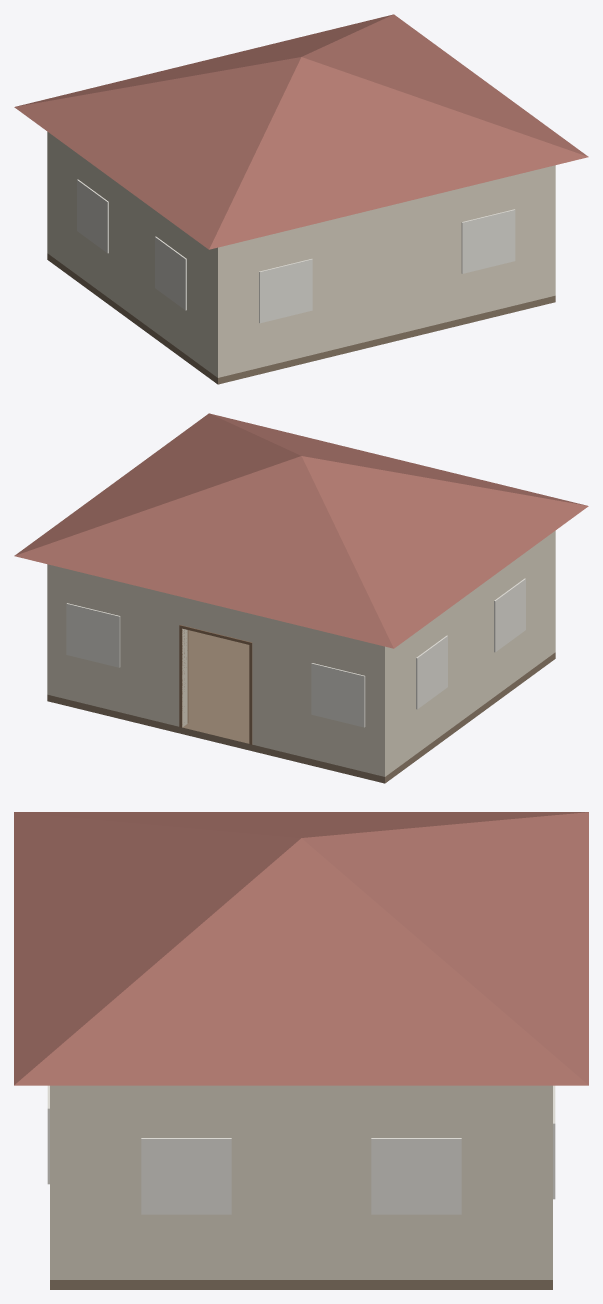
The model's file is house-a.glb.
3 views of the same model, one above another, from view 1: azimuth 30°, elevation 25°; view 2: azimuth 150°, elevation 25°; view 3: azimuth 270°, elevation 25° (orthographic). The views are drawn at different scales.
Visible parts, largest first — view 1: roof, wall_back, wall_left, floor, winframe.005, winframe.004, winframe, winframe.001, front_L; view 2: roof, wall_left, front_L, front_R, floor, winframe.006, winframe.007, front_lintel, winframe, winframe.001, wall_right, wall_back (+1 smaller); view 3: roof, wall_right, winframe.002, winframe.003, floor, wall_back, front_R.
Boxes of the visible parts, <box> form: roof: <box>14,14,588,249</box>; wall_back: <box>212,165,555,377</box>; wall_left: <box>47,132,227,377</box>; floor: <box>47,253,555,384</box>; winframe.005: <box>461,209,515,273</box>; winframe.004: <box>259,259,312,323</box>; winframe: <box>155,236,186,310</box>; winframe.001: <box>77,179,108,253</box>; front_L: <box>47,132,52,256</box>; roof: <box>14,413,588,648</box>; wall_left: <box>375,532,555,776</box>; front_L: <box>250,613,390,776</box>; front_R: <box>47,564,187,727</box>; floor: <box>47,630,555,783</box>; winframe.006: <box>311,663,365,727</box>; winframe.007: <box>66,603,120,667</box>; front_lintel: <box>182,597,249,641</box>; winframe: <box>494,578,525,652</box>; winframe.001: <box>416,635,447,709</box>; wall_right: <box>47,565,56,696</box>; wall_back: <box>550,531,555,655</box>; roof: <box>14,812,588,1085</box>; wall_right: <box>50,1085,552,1279</box>; winframe.002: <box>141,1138,231,1214</box>; winframe.003: <box>371,1138,461,1214</box>; floor: <box>50,1280,552,1289</box>; wall_back: <box>50,1085,65,1279</box>; front_R: <box>537,1085,552,1279</box>.
Size of the model in its own units: 9 by 5.07 by 8.
